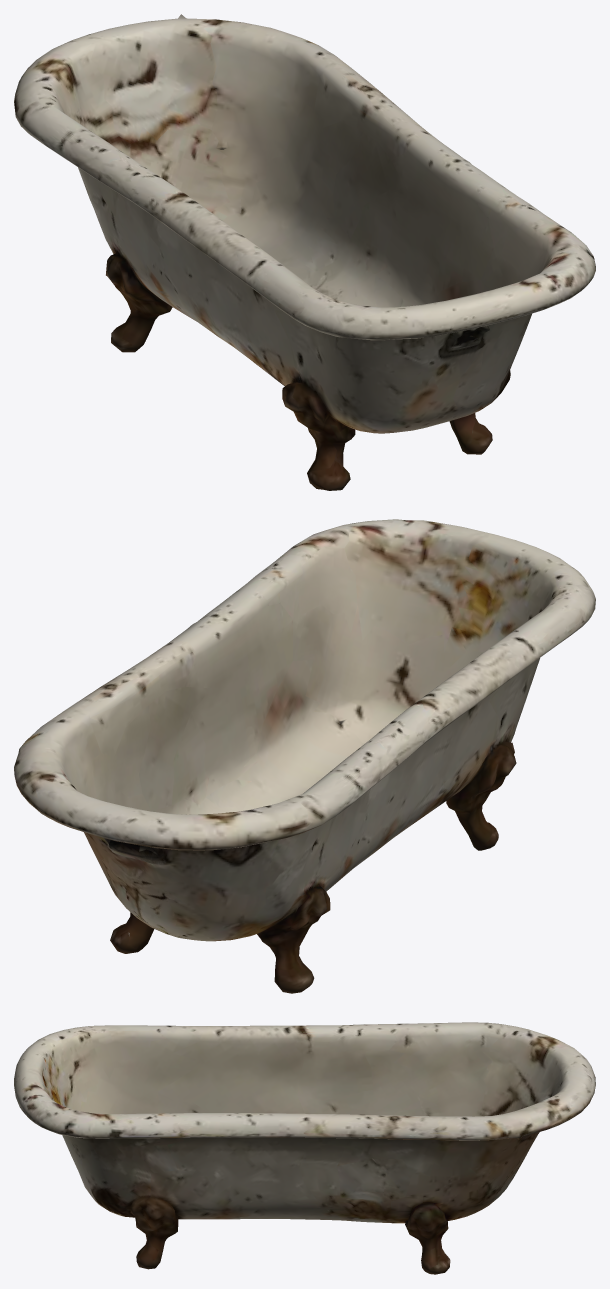
Rendered from tub.glb.
3 views of the same model, one above another, from view 1: azimuth 30°, elevation 25°; view 2: azimuth 150°, elevation 25°; view 3: azimuth 270°, elevation 25° (orthographic). The views are drawn at different scales.
Visible parts, largest first — view 1: tripo_node_5bfe642a-ea95-4788-bb70-6b0393357bb7; view 2: tripo_node_5bfe642a-ea95-4788-bb70-6b0393357bb7; view 3: tripo_node_5bfe642a-ea95-4788-bb70-6b0393357bb7.
Part boxes in pixels (<box>): tripo_node_5bfe642a-ea95-4788-bb70-6b0393357bb7: <box>14,14,595,490</box>; tripo_node_5bfe642a-ea95-4788-bb70-6b0393357bb7: <box>14,519,595,993</box>; tripo_node_5bfe642a-ea95-4788-bb70-6b0393357bb7: <box>14,1022,595,1274</box>.
Bounding box in the file's own units: 0.4486 × 0.3285 × 1.
Materials: 1 (1 with a texture image).
